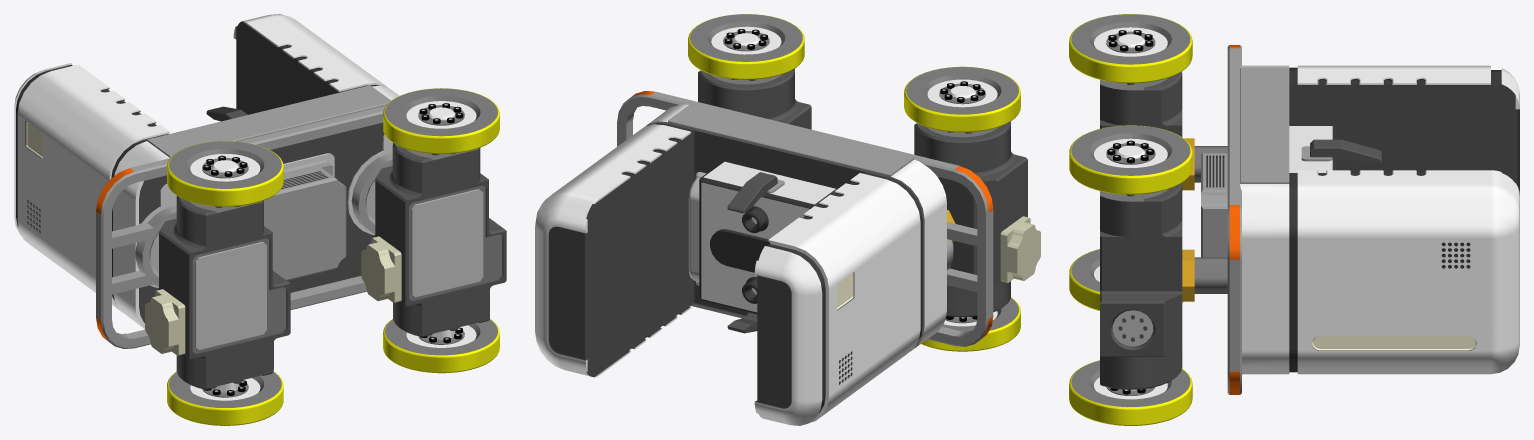
File: oht-body.obj
3 renders of one model, left to right at view 1: azimuth 30°, elevation 25°; view 2: azimuth 150°, elevation 25°; view 3: azimuth 270°, elevation 25°, orthographic. The views are drawn at different scales.
Visible parts, largest first — view 1: OHT; view 2: OHT; view 3: OHT.
Part boxes in pixels (box(x1,y1,x2,y2)): OHT: box(14, 14, 506, 425); OHT: box(535, 14, 1040, 425); OHT: box(1069, 14, 1519, 425).
Size of the model in its own units: 1.1 by 0.67 by 1.09.
